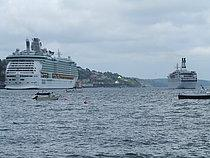Ship: (1, 32, 88, 109), (156, 56, 203, 92), (178, 85, 210, 106)
